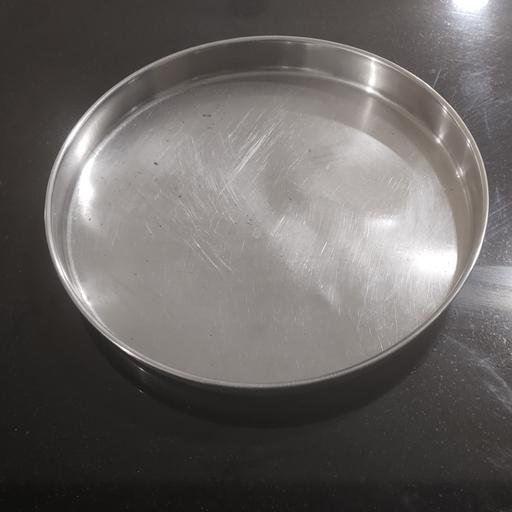plate: (43, 35, 491, 431)
